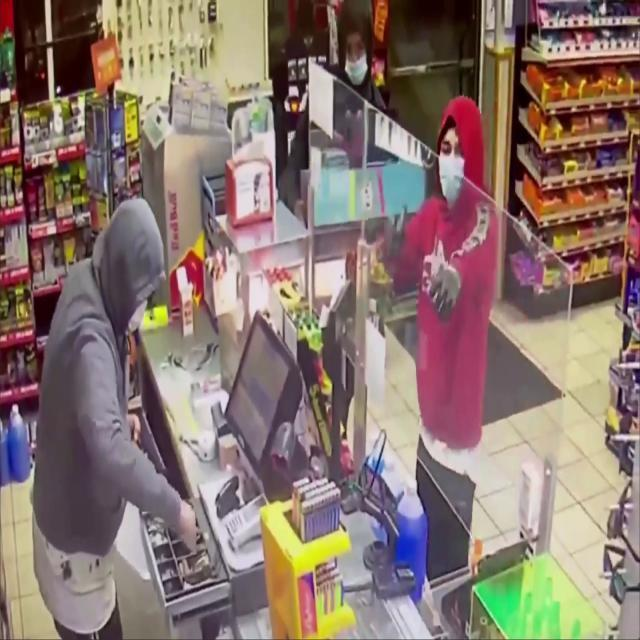gun: (128, 409, 170, 482)
